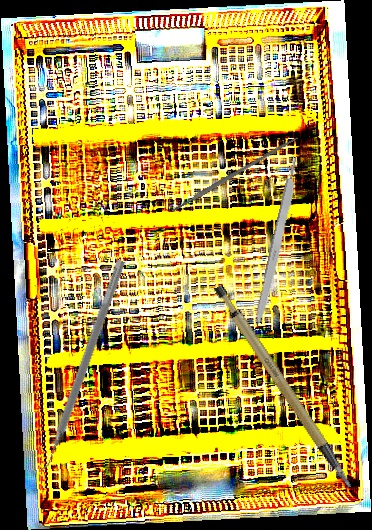Scalpel Handle: (209, 270, 354, 506), (170, 135, 299, 213), (252, 156, 304, 328)
Spatula Surgical: (34, 255, 126, 475)
